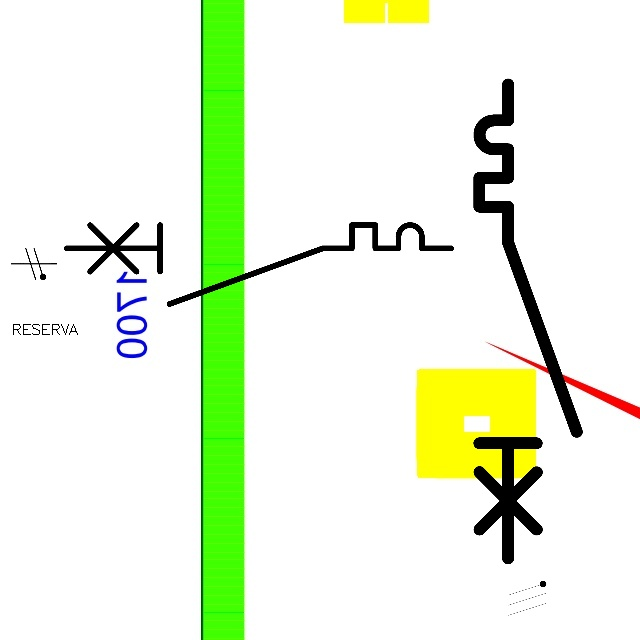interruptor_termomagnetico: (467, 72, 589, 570), (56, 215, 460, 314)
